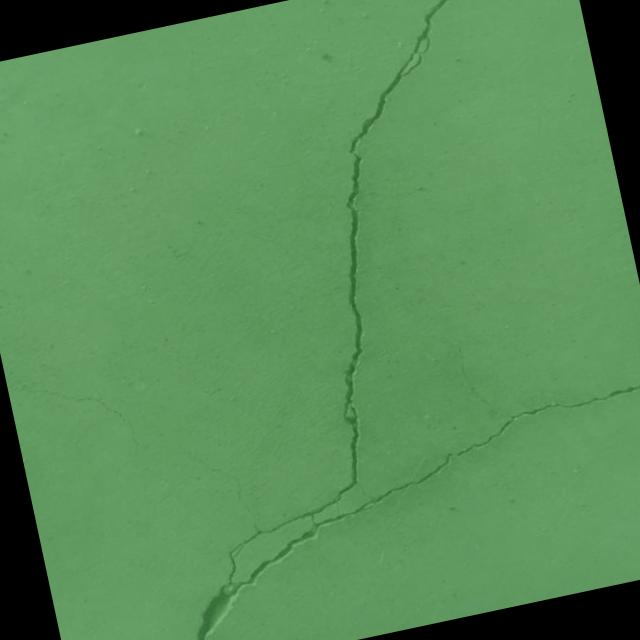crack: (45, 0, 640, 640), (2, 339, 139, 468)
